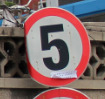speed_limit_5: (23, 7, 91, 88)
